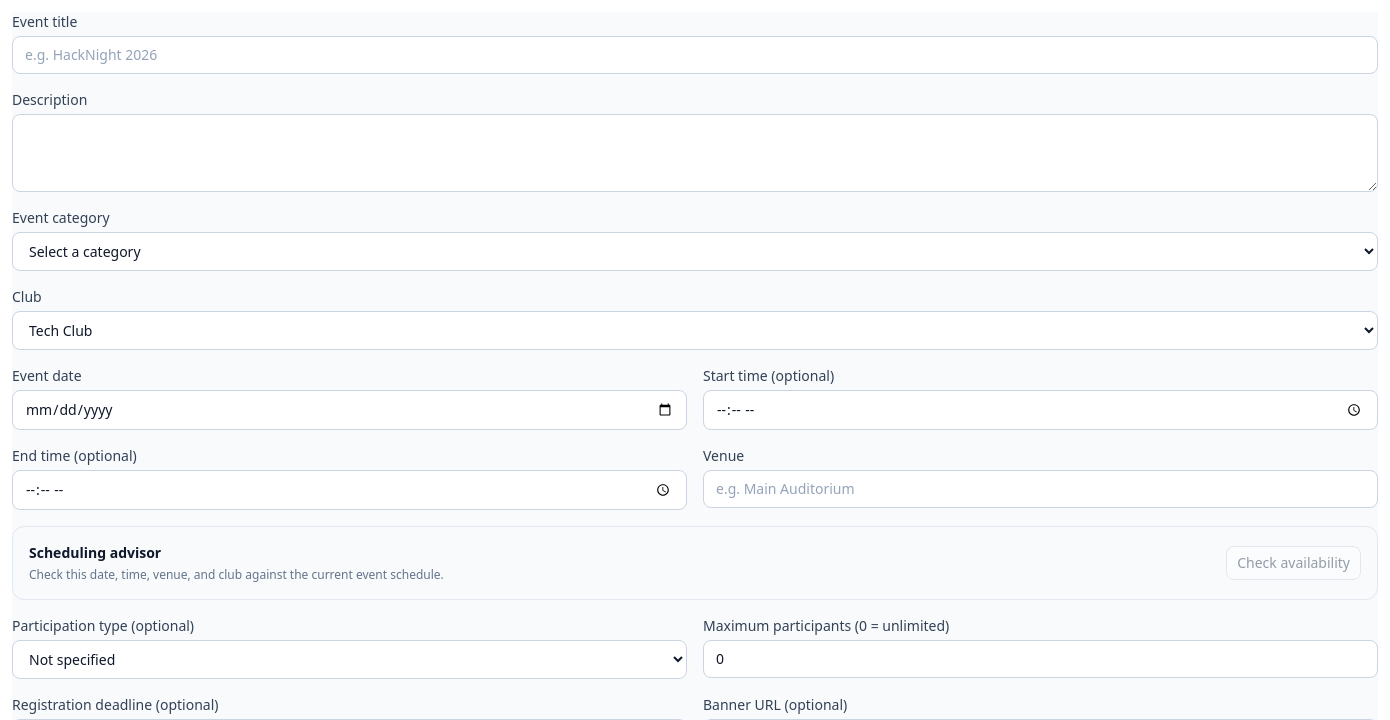
Scenario: EventForm scheduling advisor › shows the no-conflict response only after a successful advisor response
Type "2026-06-15" into the date field labelled "Event date" at (350,410), box [12,390,687,430]
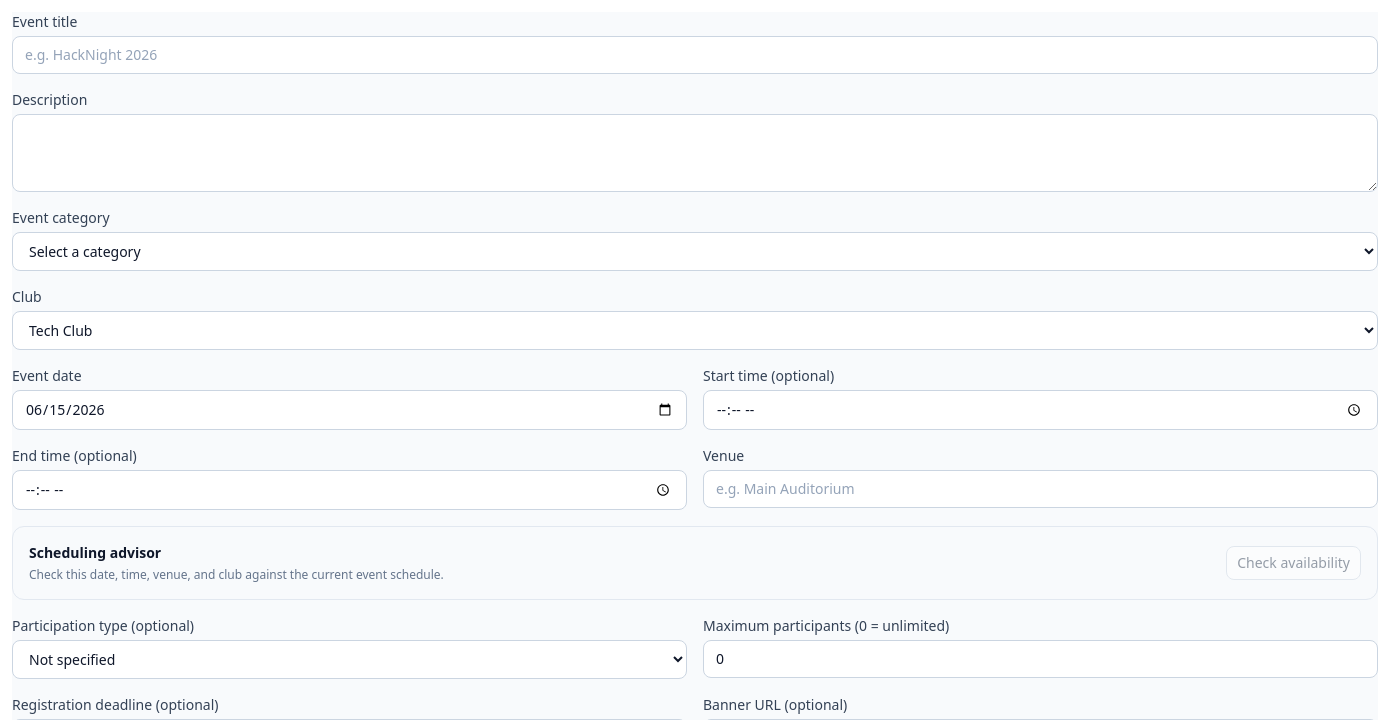
Type "10:00" into the time field labelled "Start time (optional)" at (1040,410), box [703,390,1378,430]
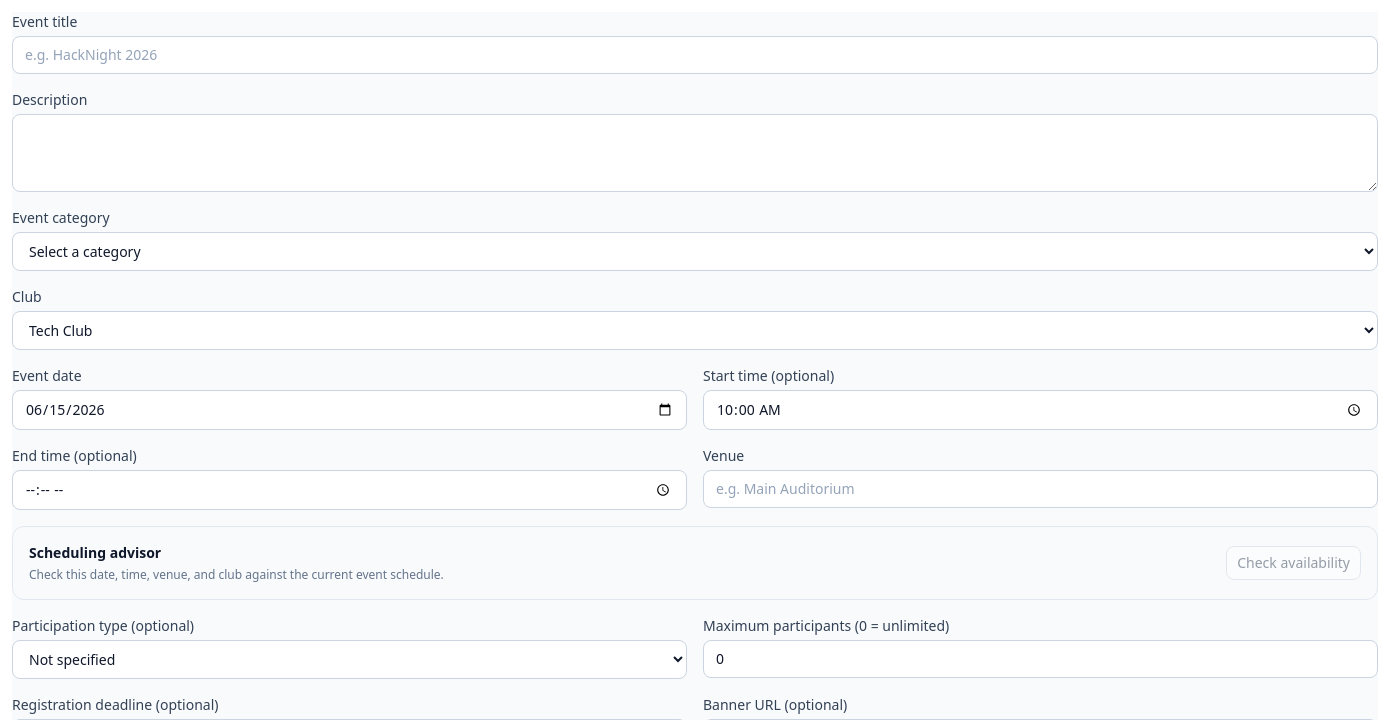
Type "11:00" into the time field labelled "End time (optional)" at (350,490), box [12,470,687,510]
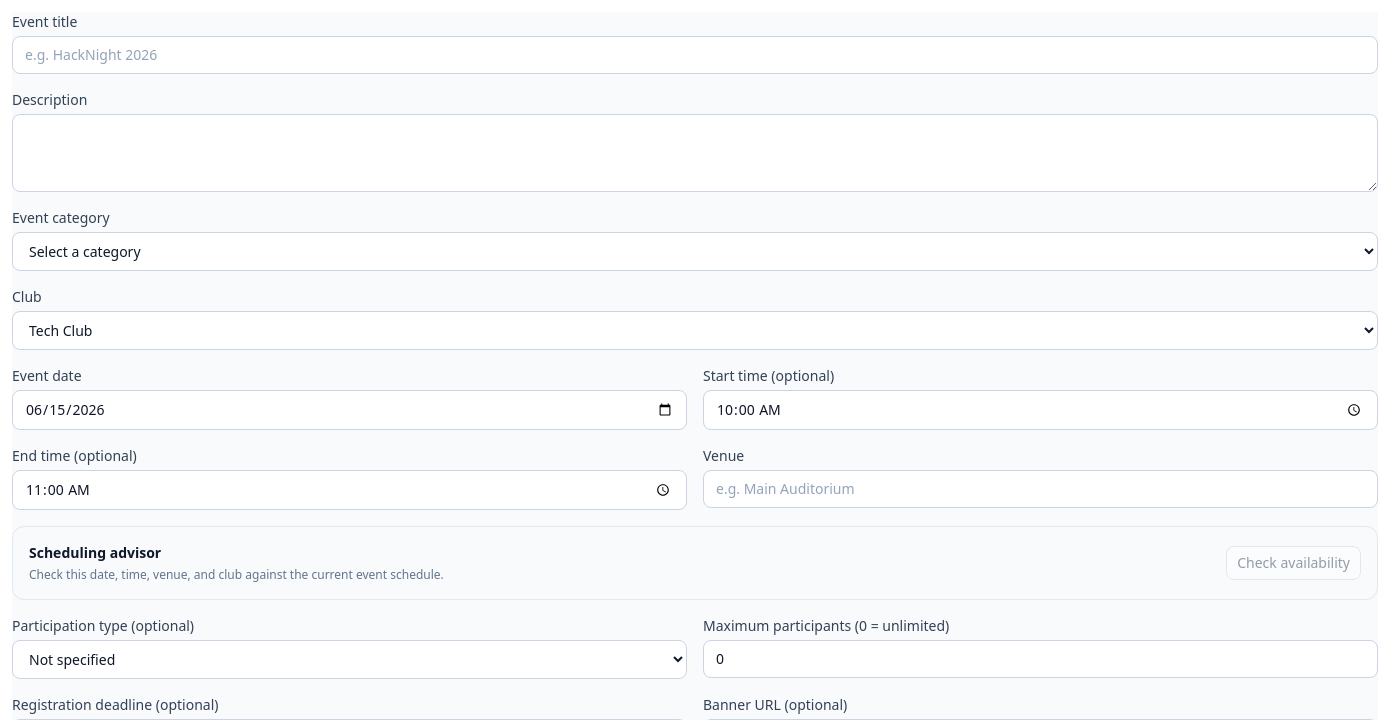
Type "Main Hall" into the field labelled "Venue" at (1040,489), box [703,470,1378,508]
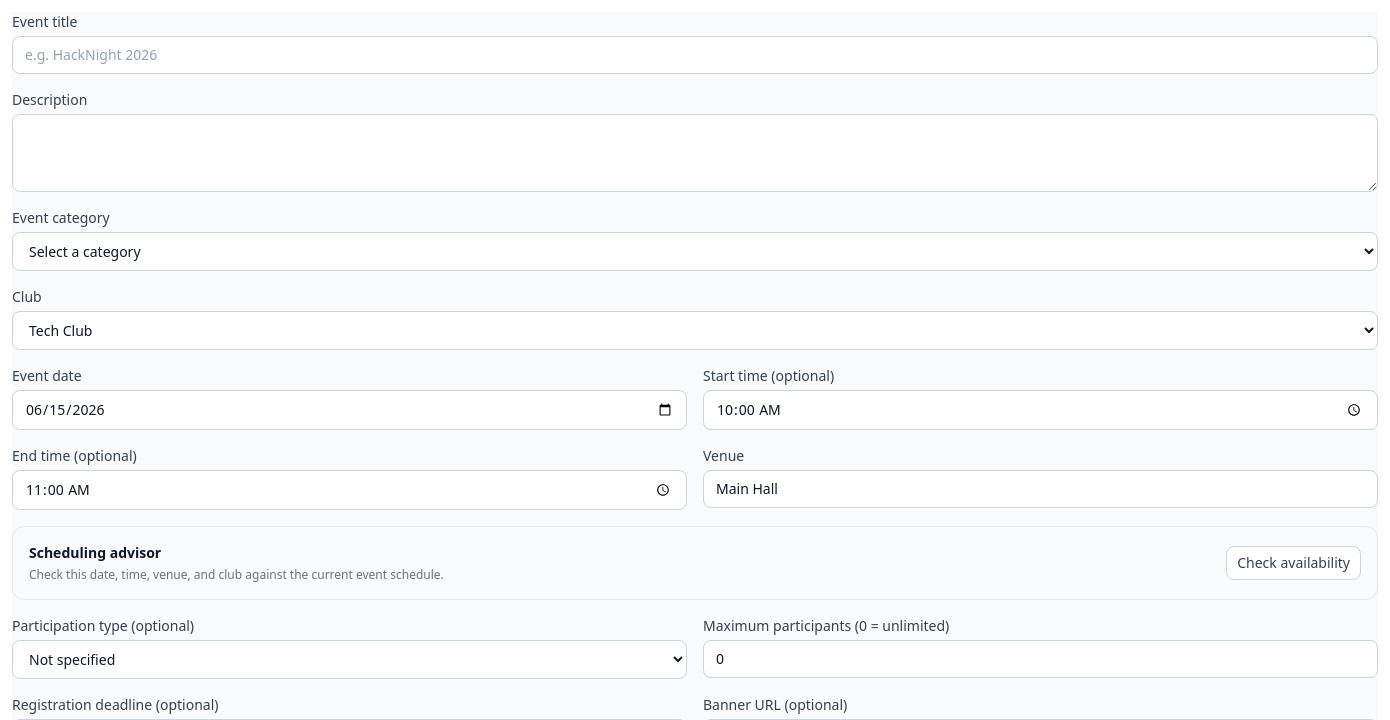
Click the button "Check availability" at (1294,563), box [1226,546,1361,580]
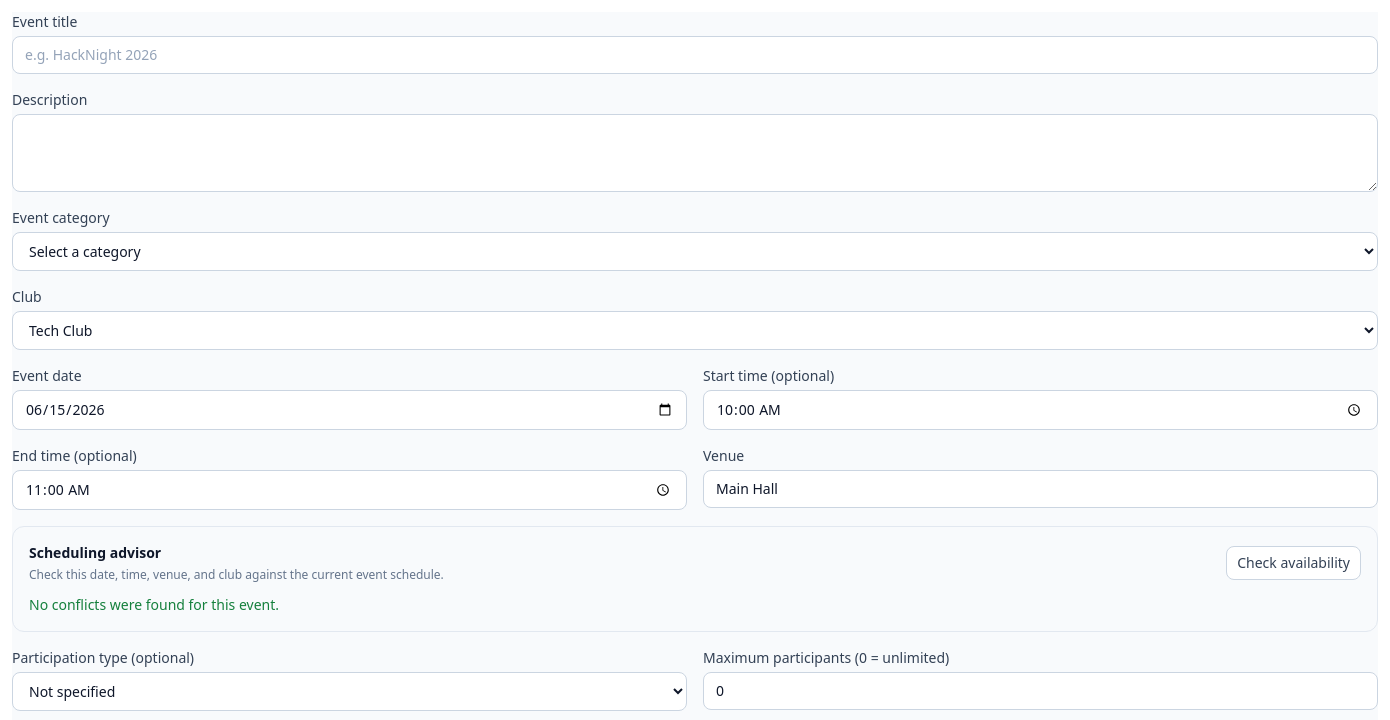
expect the text "No conflicts were found for this event." is shown: met, box [29,595,279,614]
